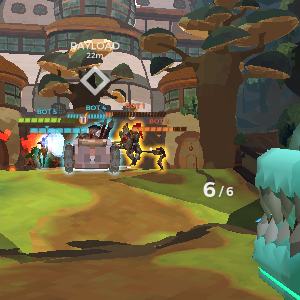model: (119, 119, 147, 167), (150, 143, 172, 174)
